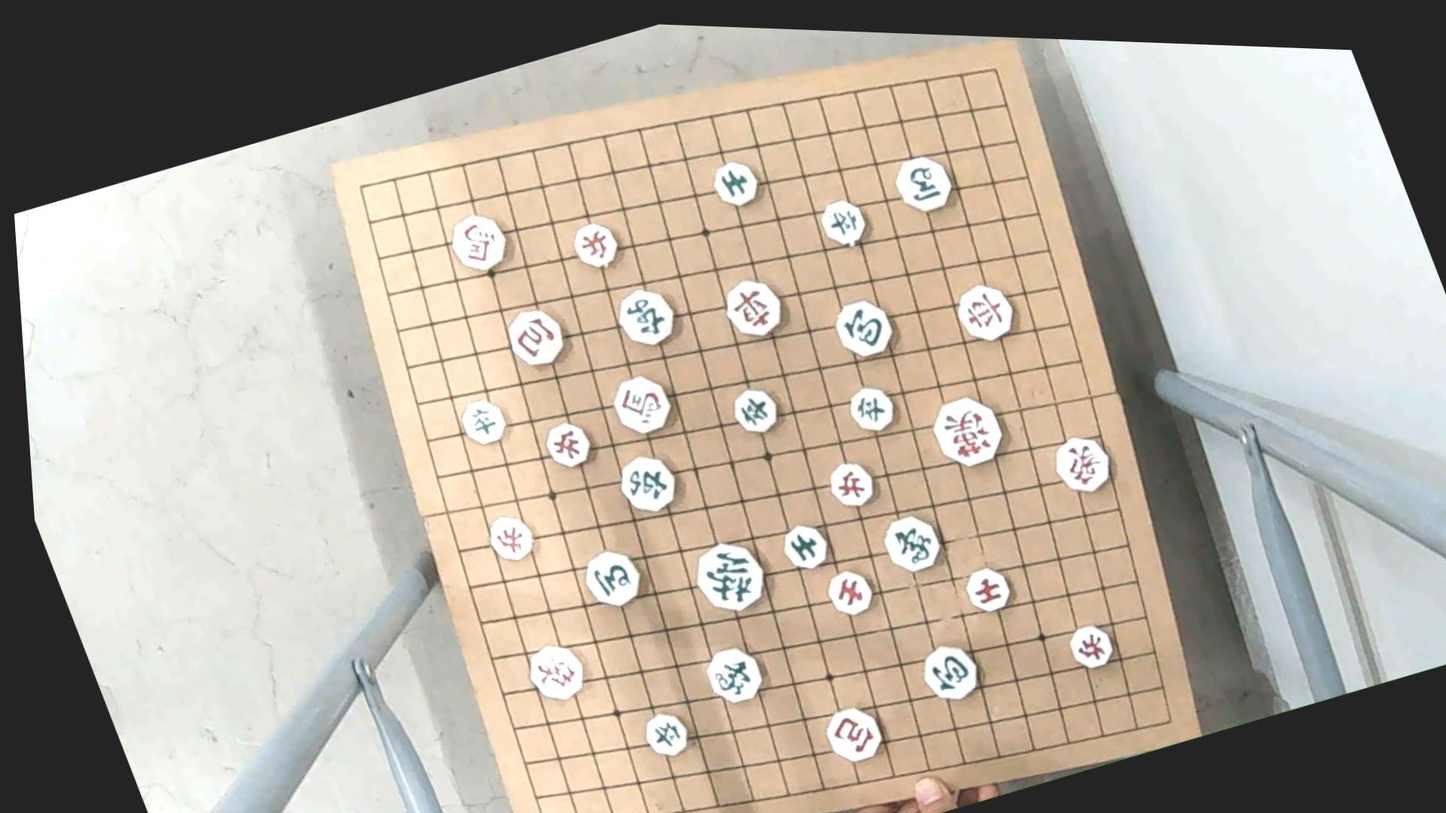cha_green: (612, 283, 682, 354), (611, 451, 683, 517)
cha_red: (717, 273, 791, 342), (947, 281, 1021, 348)
jol_green: (726, 385, 786, 439), (455, 394, 514, 448), (845, 382, 901, 437), (639, 708, 693, 762), (818, 196, 872, 248)
jol_red: (541, 416, 599, 473), (822, 457, 880, 513), (1063, 618, 1122, 672), (566, 219, 625, 273), (484, 513, 540, 565)
ma_green: (887, 152, 961, 220), (575, 546, 650, 612)
ma_red: (442, 208, 517, 276), (609, 371, 678, 438)
po_green: (914, 639, 986, 706), (828, 295, 901, 361)
po_red: (499, 306, 572, 374), (819, 702, 891, 769)
sa_green: (776, 521, 835, 575), (708, 158, 765, 211)
sa_red: (959, 565, 1018, 619), (822, 567, 880, 620)
sang_green: (874, 510, 950, 578), (700, 642, 771, 711)
sang_red: (519, 638, 593, 706), (1048, 431, 1120, 498)
wang_green: (688, 538, 775, 617)
wang_red: (925, 389, 1011, 473)
